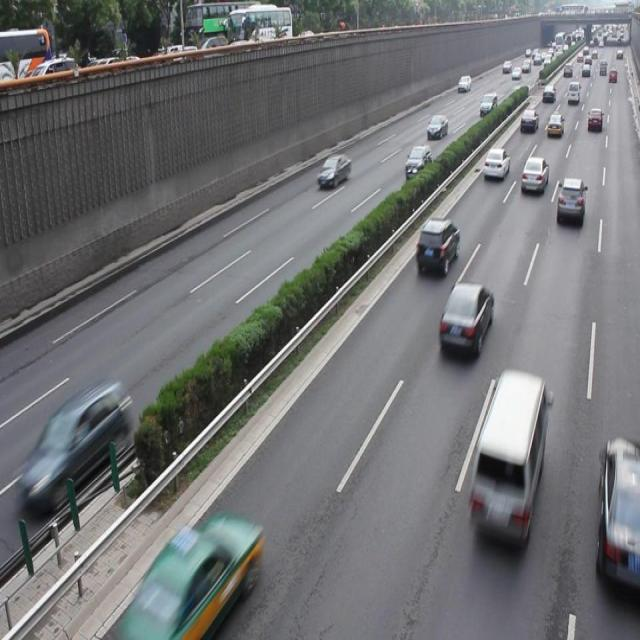car: (129, 512, 262, 640), (19, 379, 130, 515), (595, 434, 640, 586), (437, 280, 493, 358), (414, 217, 458, 275), (556, 177, 584, 224), (316, 154, 350, 189), (519, 155, 548, 196), (403, 143, 431, 179), (482, 147, 509, 181)
truck: (466, 367, 548, 548)
